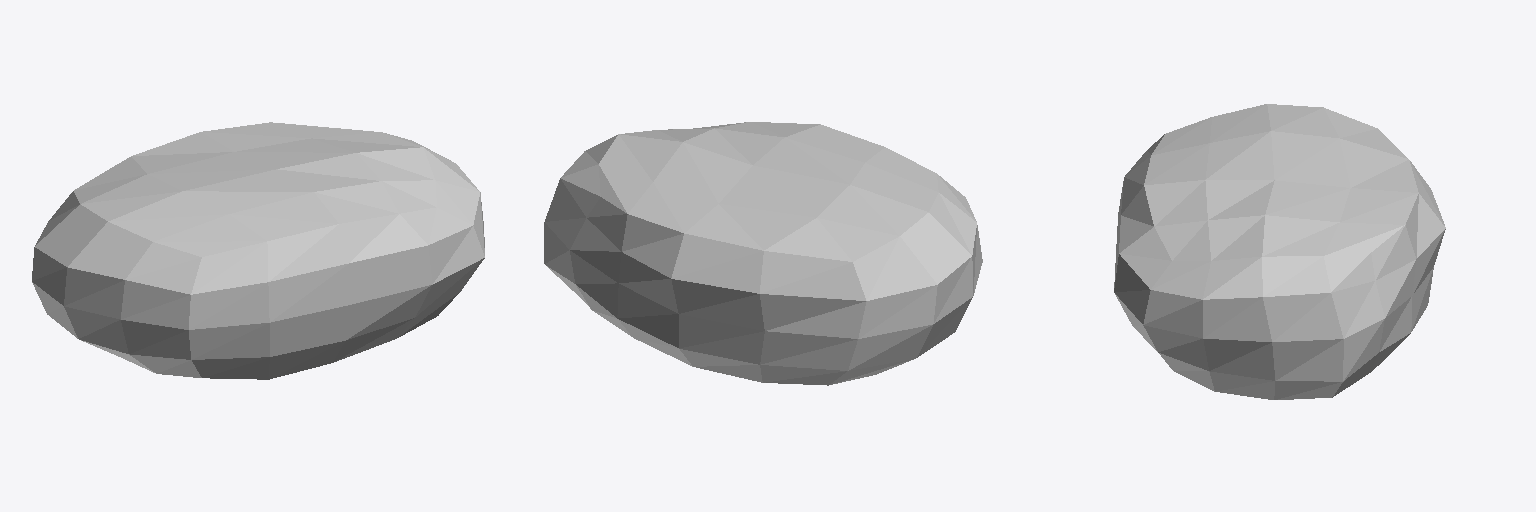
The model's file is Rock5_100.obj.
3 renders of one model, left to right at view 1: azimuth 30°, elevation 25°; view 2: azimuth 150°, elevation 25°; view 3: azimuth 270°, elevation 25°, orthographic.
Parts seen in each view (by area): view 1: Cube.001_Cube.002; view 2: Cube.001_Cube.002; view 3: Cube.001_Cube.002.
Boxes of the visible parts, <box> form: Cube.001_Cube.002: <box>32,122,484,379</box>; Cube.001_Cube.002: <box>544,122,982,385</box>; Cube.001_Cube.002: <box>1114,104,1445,399</box>.
Bounding box in the file's own units: 2.41 × 1.01 × 1.75.